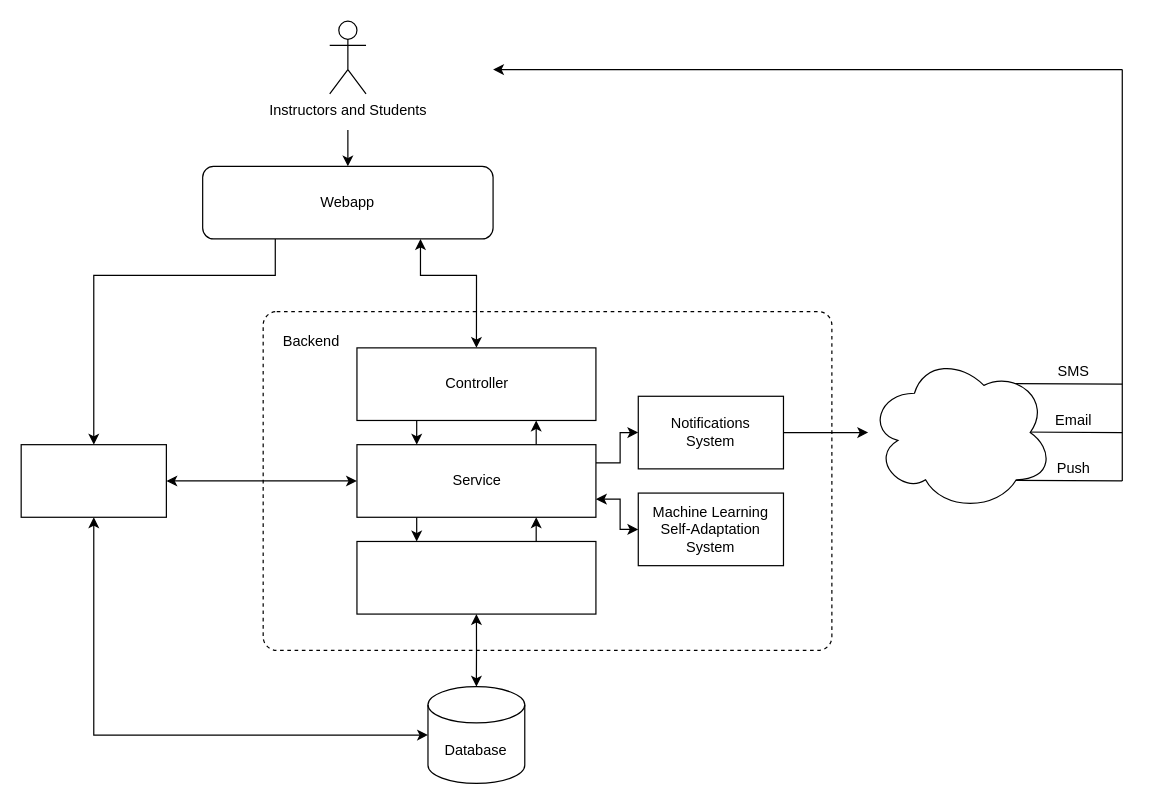
Some shapes in this 1153 by 805 pixel diagram are drawn without their labels. Here are the shapes that lost their labels. From the top down, the centre of each, then its label:
the point at 960,432: Third-Party Notification Service
the point at 93,480: Identity Provider (SaaS Cloud Solution)
the point at 476,577: Persistence
